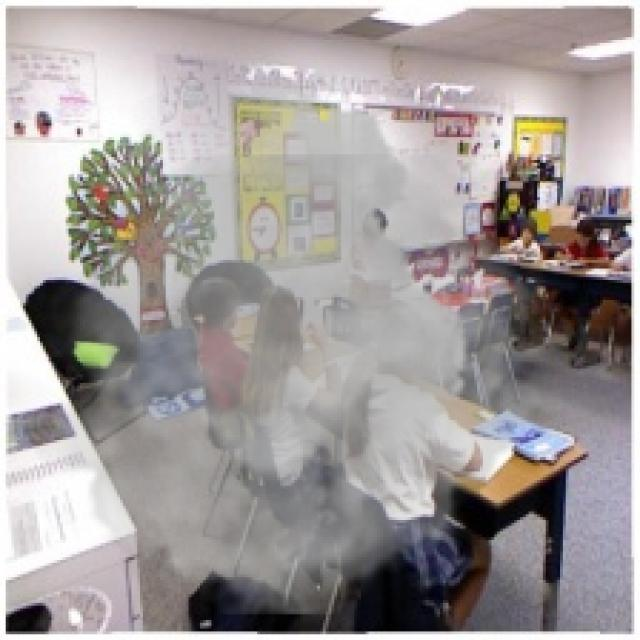smoke: (31, 63, 566, 614)
